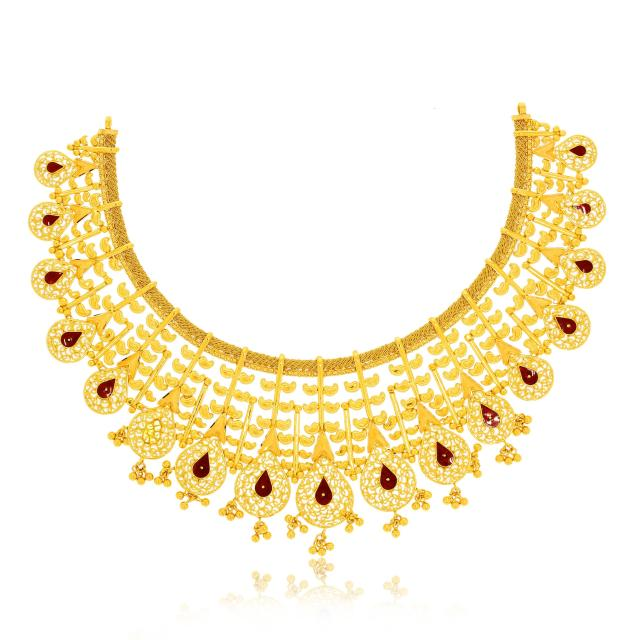missing gem: (142, 418, 161, 444)
